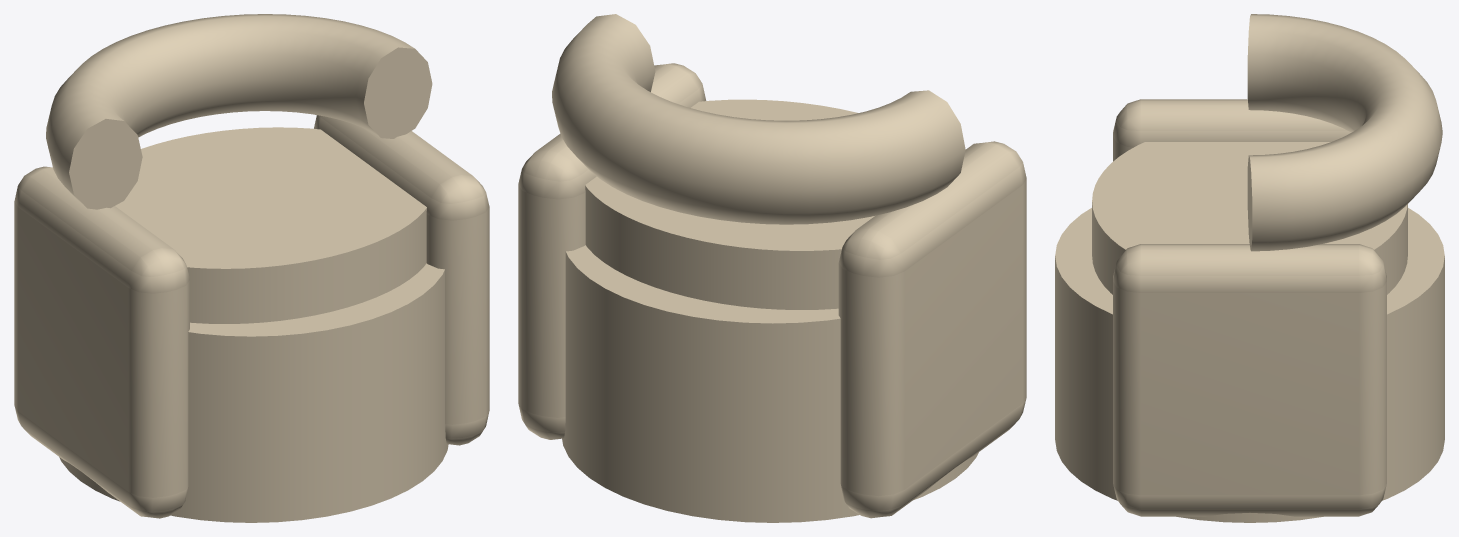
Rendered from prod-1773061941304-xkvqs.glb.
The picture shows the model from 3 angles, left to right: view 1: azimuth 30°, elevation 25°; view 2: azimuth 150°, elevation 25°; view 3: azimuth 270°, elevation 25°; orthographic projection. The views are drawn at different scales.
Visible parts, largest first — view 1: Round upholstered base.001; view 2: Round upholstered base.001; view 3: Round upholstered base.001.
Part boxes in pixels (x1=…): Round upholstered base.001: x1=14, y1=14, x2=489, y2=522; Round upholstered base.001: x1=518, y1=14, x2=1026, y2=522; Round upholstered base.001: x1=1055, y1=14, x2=1444, y2=522.
Size of the model in its own units: 0.8 by 0.75 by 0.75.
